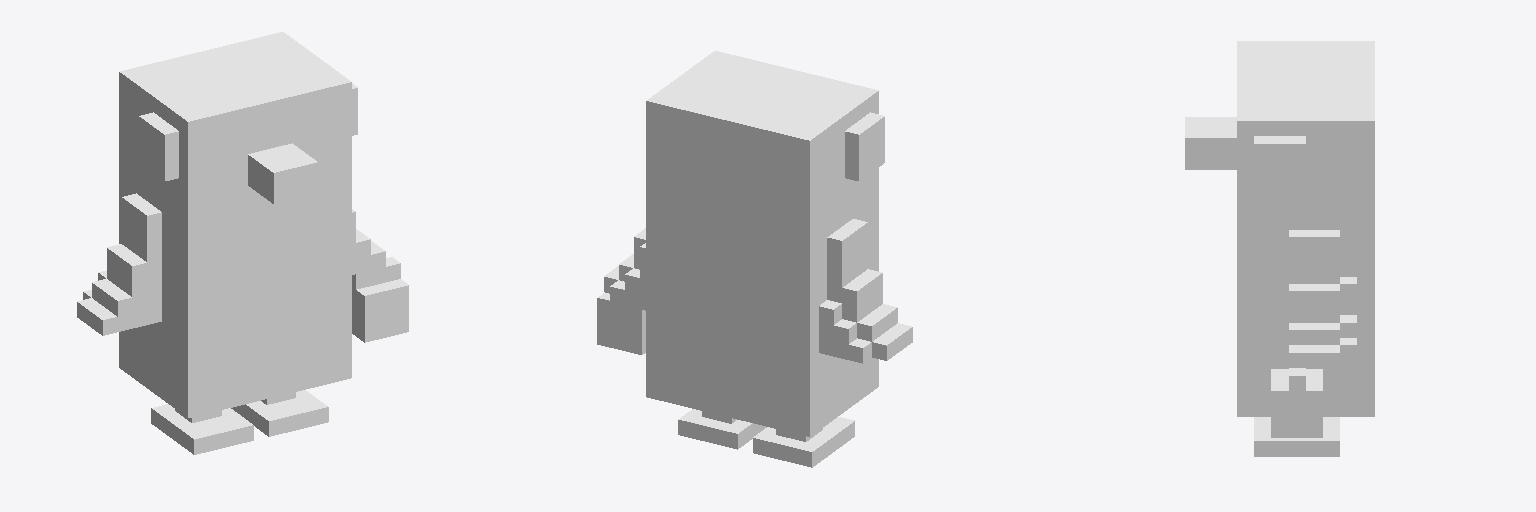
File: pingwin.obj
3 views of the same model, side by side, from view 1: azimuth 30°, elevation 25°; view 2: azimuth 150°, elevation 25°; view 3: azimuth 270°, elevation 25° (orthographic).
Size of the model in its own units: 20 by 22 by 11.